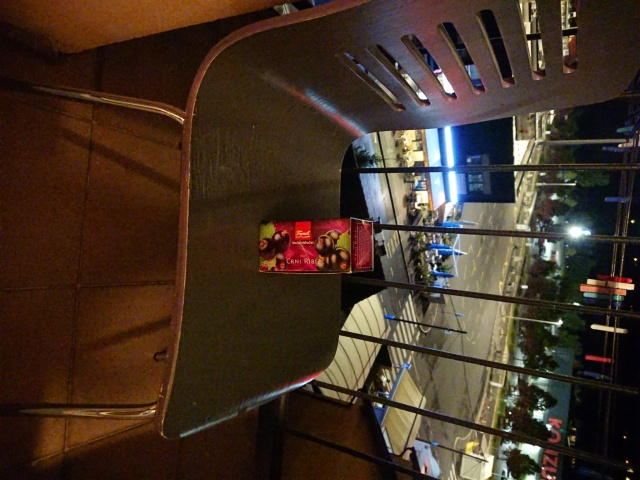Franck Black Currant Tea 60g: (255, 214, 377, 277)
